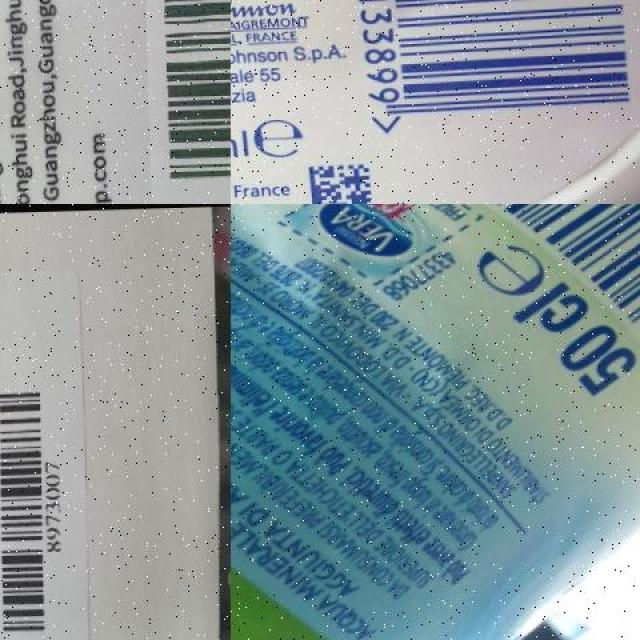Barcode: (329, 0, 640, 140), (360, 204, 640, 359), (0, 372, 67, 640), (152, 0, 231, 192)
